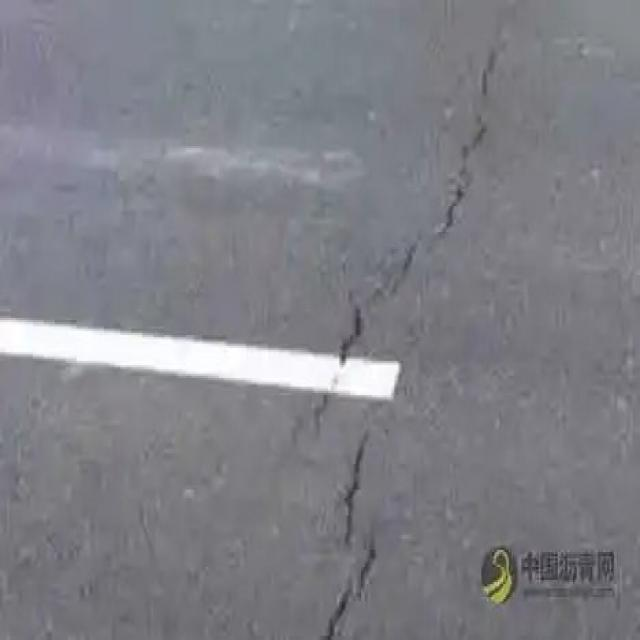Pothole: (330, 36, 495, 361), (338, 425, 387, 638)
